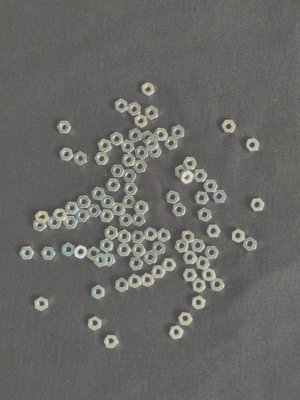nut: (169, 325, 185, 340), (103, 335, 119, 349), (35, 296, 49, 312), (88, 316, 102, 331), (91, 285, 105, 300), (192, 295, 206, 310), (162, 258, 177, 272), (210, 278, 225, 292), (204, 246, 219, 260), (183, 251, 198, 265), (191, 239, 206, 253), (94, 253, 108, 268), (102, 253, 116, 268), (152, 241, 166, 256), (243, 237, 257, 252), (75, 209, 90, 223), (180, 170, 194, 185), (57, 121, 72, 135), (171, 125, 185, 140), (128, 275, 142, 289), (193, 279, 207, 293), (202, 268, 216, 282), (196, 257, 210, 271), (175, 240, 189, 254), (129, 257, 143, 271), (105, 226, 119, 240), (157, 229, 171, 243), (92, 187, 106, 201), (198, 208, 212, 222), (195, 191, 209, 205), (194, 169, 208, 183), (133, 160, 147, 174), (246, 138, 260, 152), (135, 146, 149, 160), (121, 140, 135, 154), (145, 137, 159, 151), (178, 313, 193, 326), (141, 273, 154, 288), (151, 266, 166, 279), (183, 269, 198, 282), (182, 230, 195, 245), (20, 247, 35, 260), (41, 247, 56, 260), (74, 245, 87, 260), (132, 244, 147, 257), (117, 244, 132, 257), (53, 209, 68, 222), (77, 196, 92, 209), (134, 202, 149, 215), (122, 170, 137, 183), (250, 199, 265, 212), (212, 190, 227, 203), (203, 180, 218, 193), (222, 120, 237, 133), (74, 151, 87, 166), (154, 128, 169, 141), (128, 102, 141, 117), (115, 99, 128, 114), (142, 82, 155, 97), (62, 243, 75, 257), (87, 247, 100, 261), (144, 251, 157, 265), (100, 239, 113, 253), (118, 230, 131, 244), (131, 231, 145, 244), (144, 228, 157, 242), (207, 225, 221, 238), (232, 229, 245, 243), (33, 219, 47, 232), (64, 216, 78, 229), (65, 202, 79, 215), (87, 205, 101, 218), (100, 210, 114, 223), (119, 213, 132, 227), (133, 213, 146, 227), (112, 203, 126, 216), (101, 196, 115, 209), (107, 179, 121, 192), (173, 203, 186, 217), (166, 191, 180, 204), (60, 148, 73, 162), (98, 140, 112, 153), (110, 133, 123, 147), (123, 154, 136, 168), (129, 129, 142, 143), (148, 145, 162, 158), (142, 131, 155, 145), (165, 137, 178, 151), (134, 115, 148, 128), (145, 106, 158, 120), (116, 278, 128, 293), (35, 212, 50, 224), (48, 217, 62, 229), (122, 196, 136, 208), (124, 184, 138, 196), (111, 165, 125, 177), (183, 158, 197, 170), (95, 153, 109, 165), (176, 165, 187, 178)
